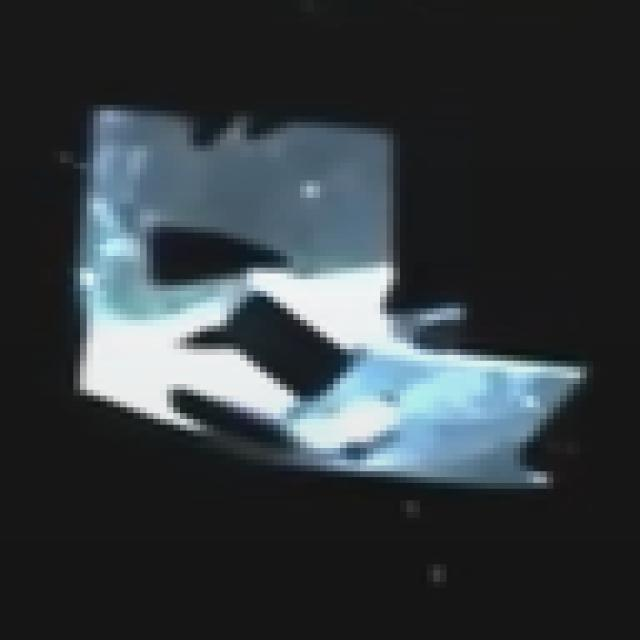large_debris: (52, 79, 579, 528)
